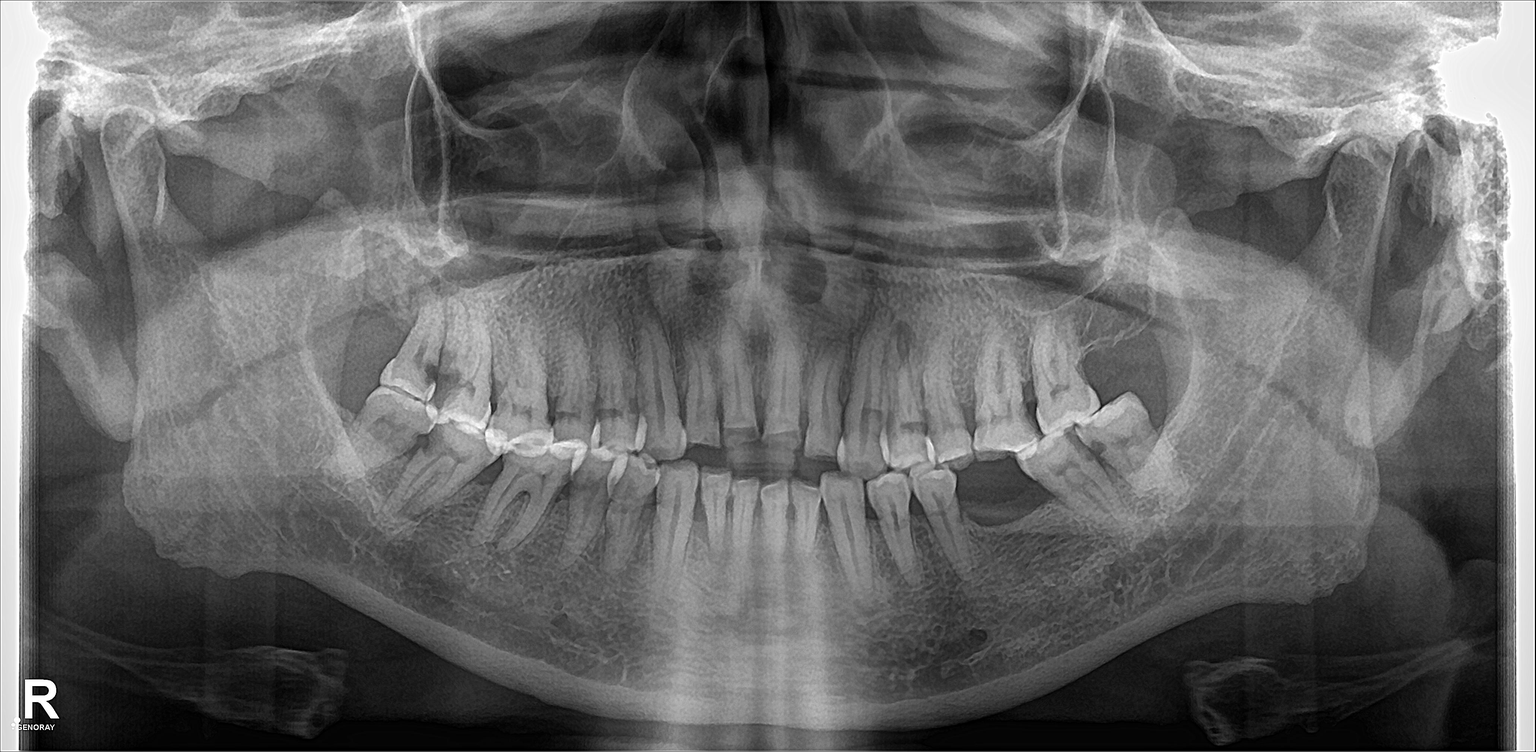Dental Caries: (423, 361, 468, 411)
Missing Tooth: (337, 272, 402, 362), (1086, 294, 1138, 389), (968, 469, 1025, 544)
